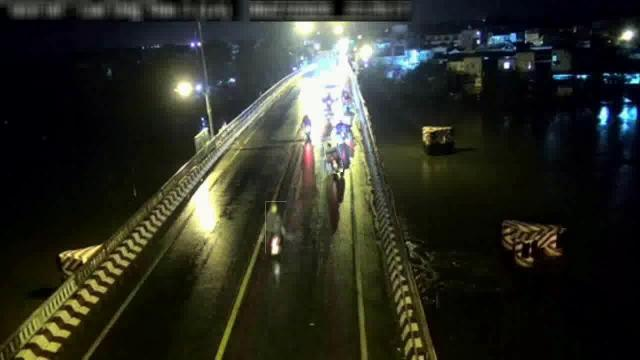Bike: (266, 202, 286, 254), (324, 140, 342, 174), (321, 90, 335, 112), (299, 112, 311, 132)
